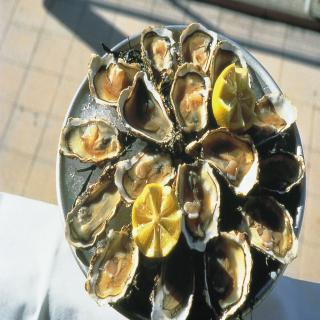Lemon: (128, 180, 184, 260), (211, 64, 255, 128)
